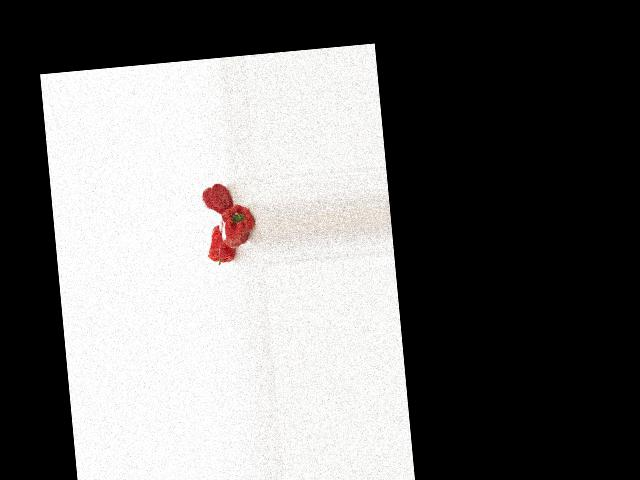bell_pepper: (200, 180, 234, 214)
